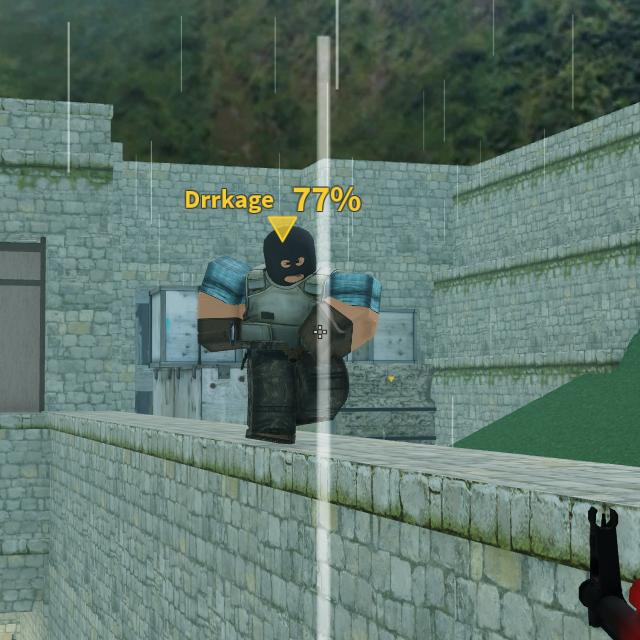Head: (264, 227, 316, 283)
Player: (198, 228, 381, 441)
